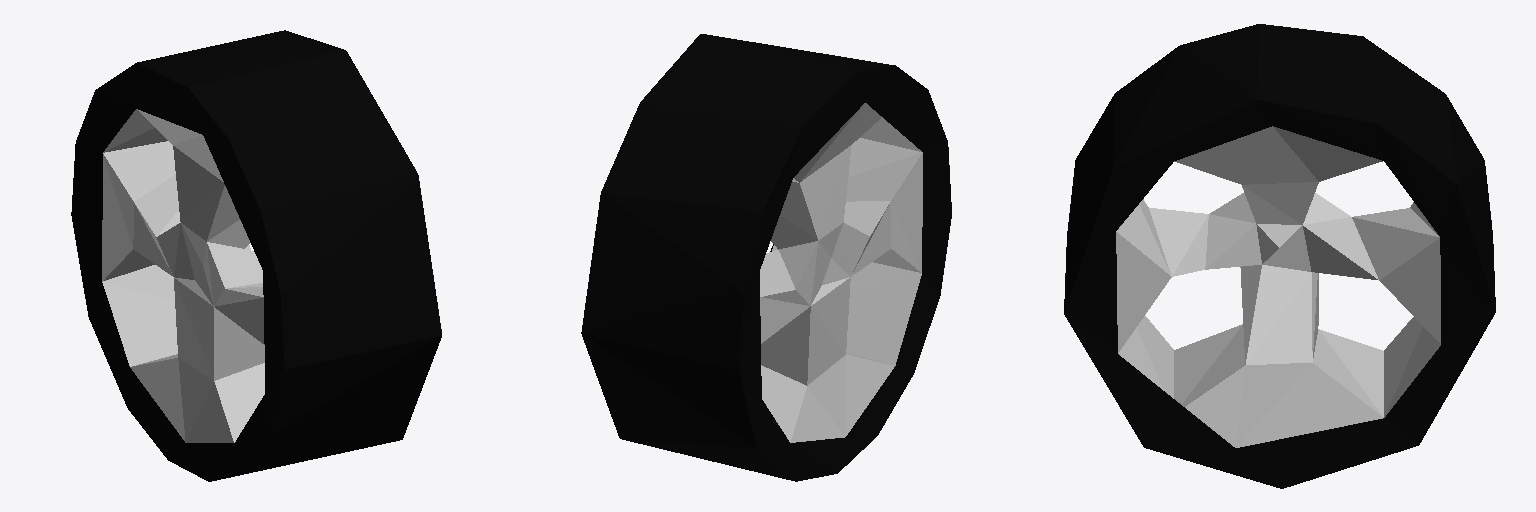
File: monster_pink_wheel.obj
3 renders of one model, left to right at view 1: azimuth 30°, elevation 25°; view 2: azimuth 150°, elevation 25°; view 3: azimuth 270°, elevation 25°, orthographic.
Parts seen in each view (by area): view 1: Circle.008; view 2: Circle.008; view 3: Circle.008.
Part boxes in pixels (x1,y1,x2,y2): Circle.008: (71, 30, 441, 481); Circle.008: (581, 34, 951, 481); Circle.008: (1064, 24, 1495, 488).
Size of the model in its own units: 1.07 by 2.52 by 2.54.